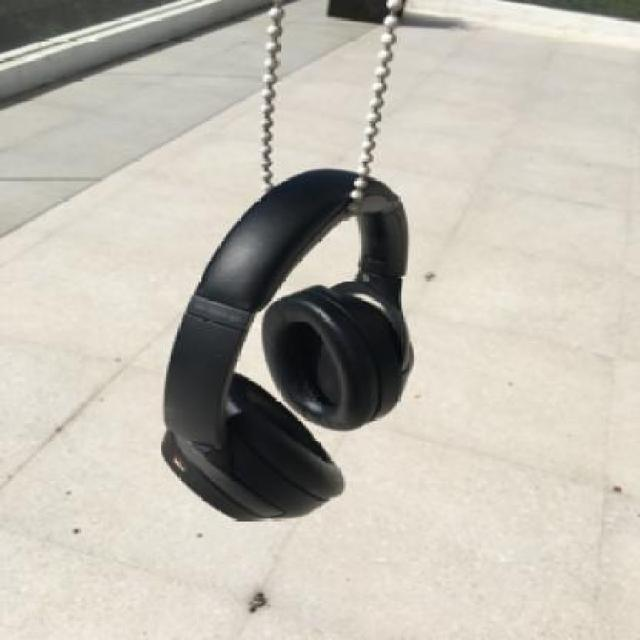earphone: (138, 152, 445, 543)
